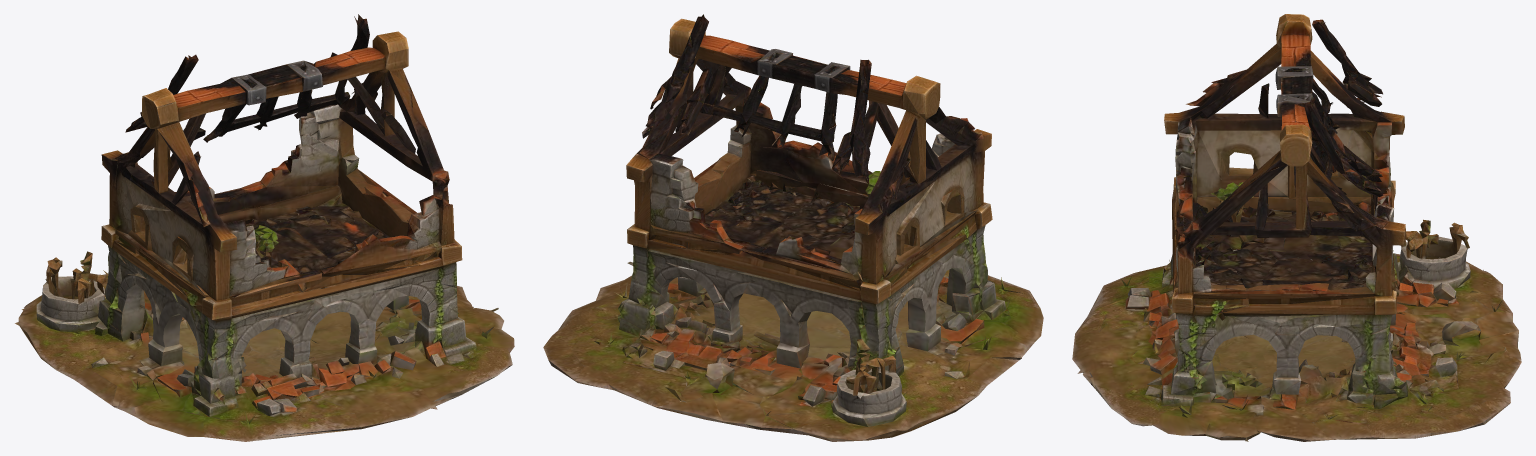
Rendered from village_ruin.glb.
The picture shows the model from 3 angles, left to right: view 1: azimuth 30°, elevation 25°; view 2: azimuth 150°, elevation 25°; view 3: azimuth 270°, elevation 25°; orthographic projection.
Parts seen in each view (by area): view 1: Mesh_0; view 2: Mesh_0; view 3: Mesh_0.
Boxes of the visible parts, left/top/right/bottom form: Mesh_0: left=15, top=14, right=514, bottom=441; Mesh_0: left=543, top=14, right=1043, bottom=441; Mesh_0: left=1072, top=14, right=1521, bottom=441.
Bounding box in the file's own units: 1.91 × 1.39 × 1.9.
Materials: 1 (1 with a texture image).
